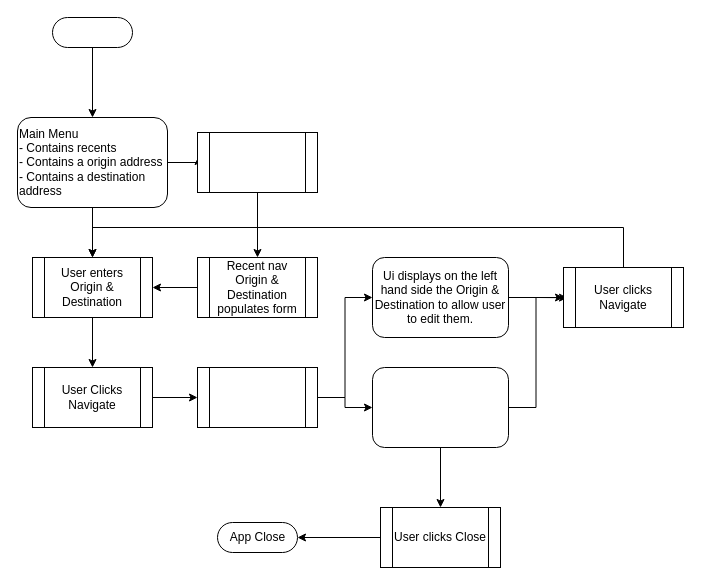
This 701x585 diagram has some shape labels left out. The centre of each missing label's shape, as x and y in pixels:
App Start: [92,32]
UI Displays the map and directions from point to point: [440,407]
UI Loads the map and direction data.: [257,397]
User selects recent: [257,162]
